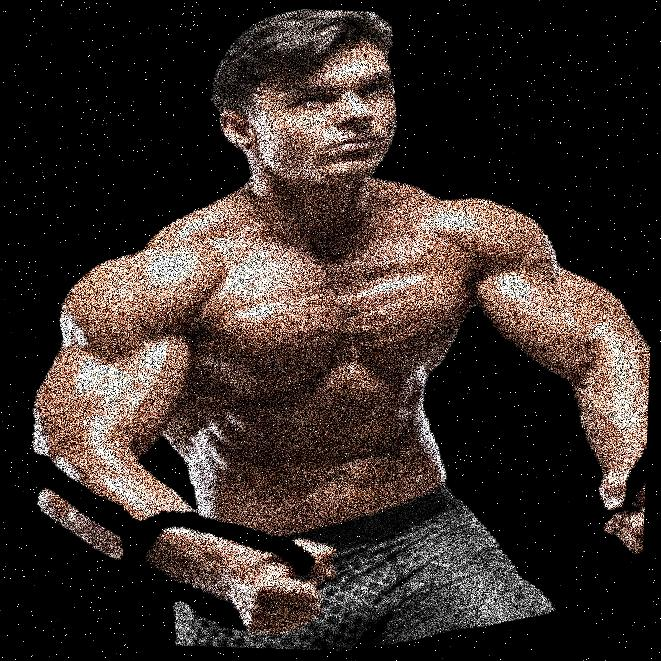Pessoa: (219, 0, 462, 660)
